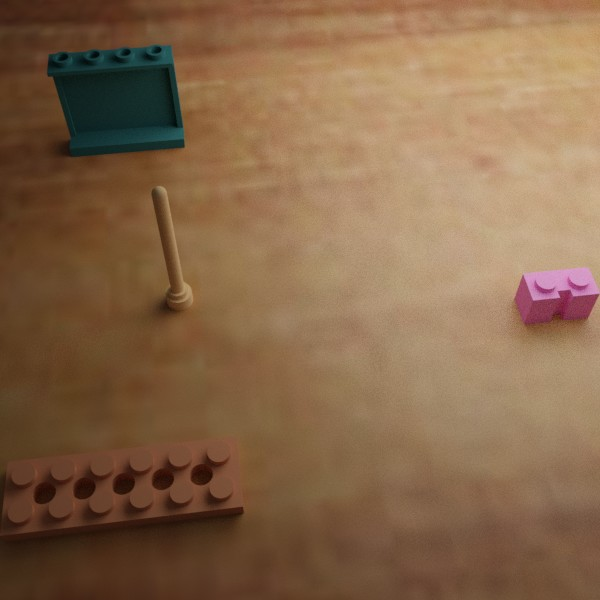lego: (0, 435, 244, 541), (46, 44, 185, 157), (151, 186, 193, 310), (514, 267, 599, 324)
